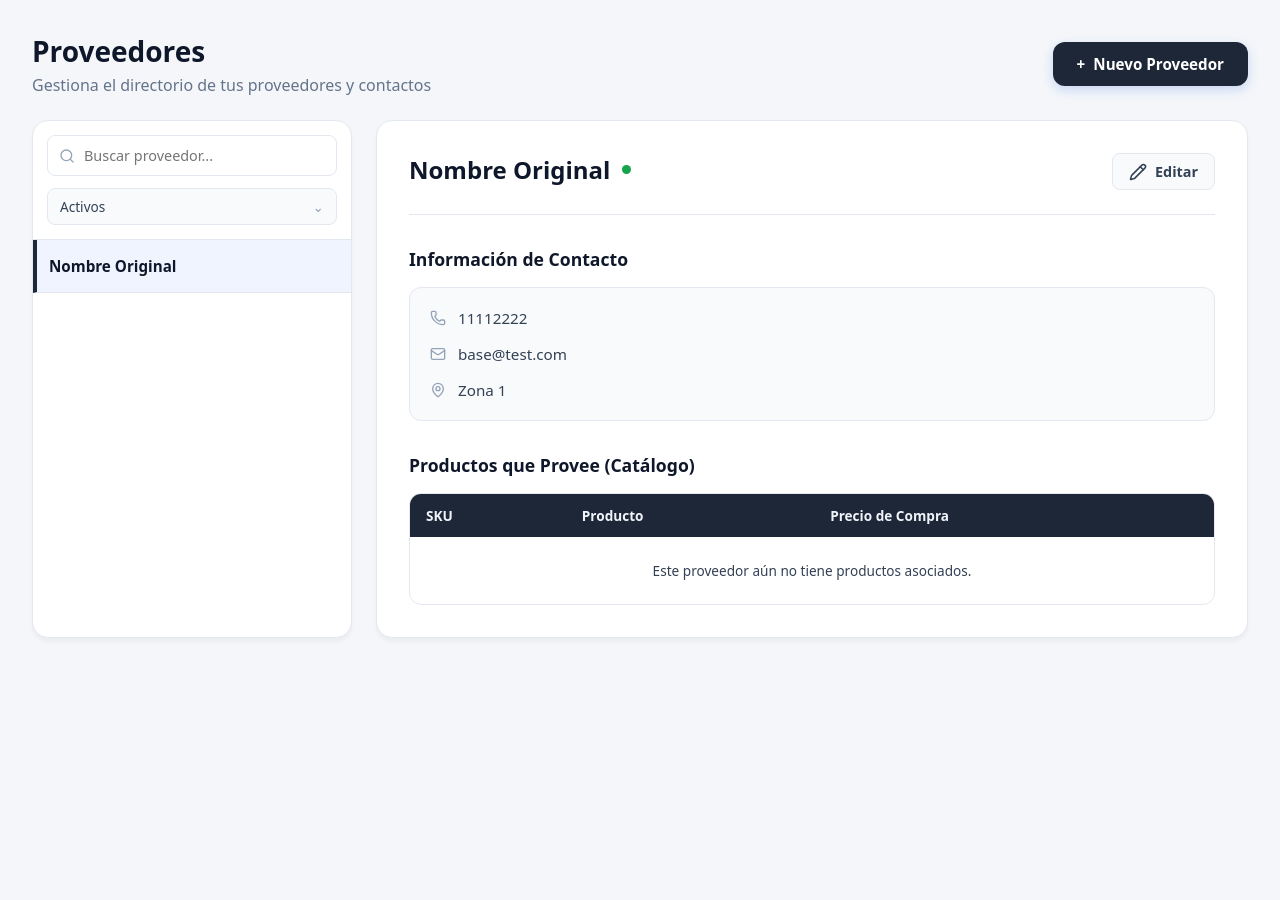
Test case: Flujo comercial completo: Proveedores › edición: actualiza los datos y se reflejan en la lista y el detalle
Click the button with class "btn-icon-action". click: (1164, 172)
box: 1112,153 -> 1215,190
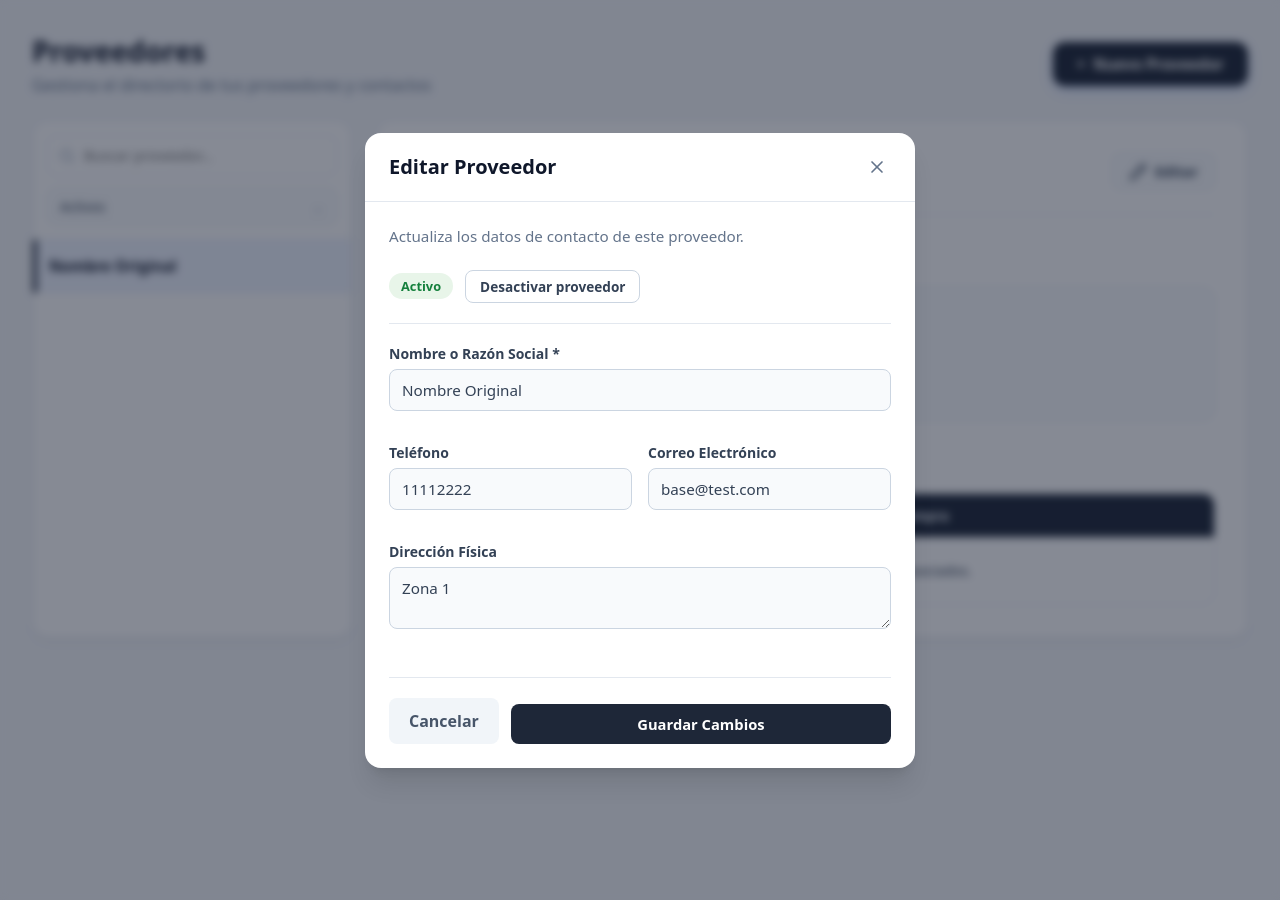
Replace the text in the field below "Nombre o Razón Social *" with "Nombre Editado". click: (640, 390)
box: 389,368 -> 891,410
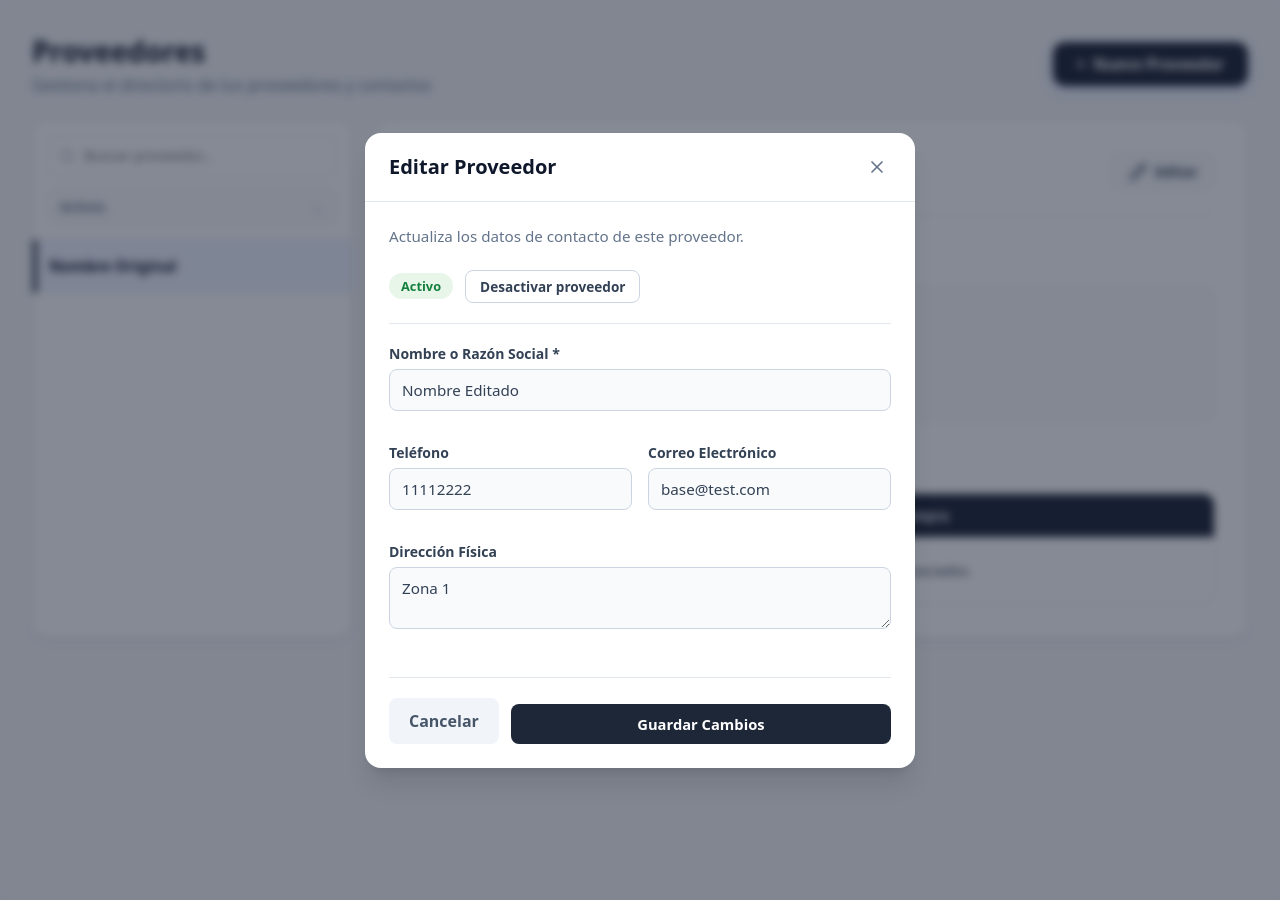
Replace the text in the field below "Teléfono" with "22223333". click: (510, 488)
box: 389,468 -> 632,510
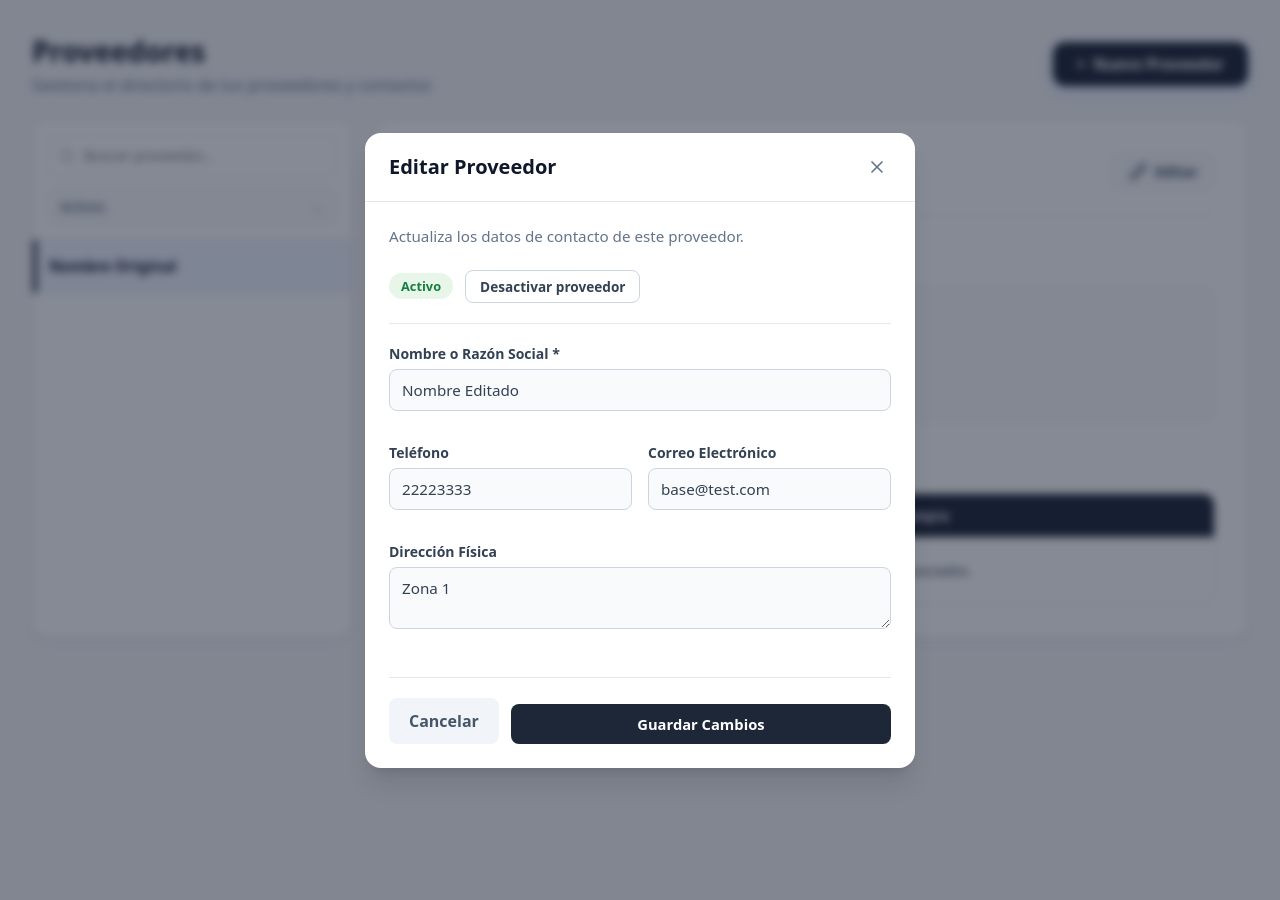
Submit the form, box 389,344 -> 891,744
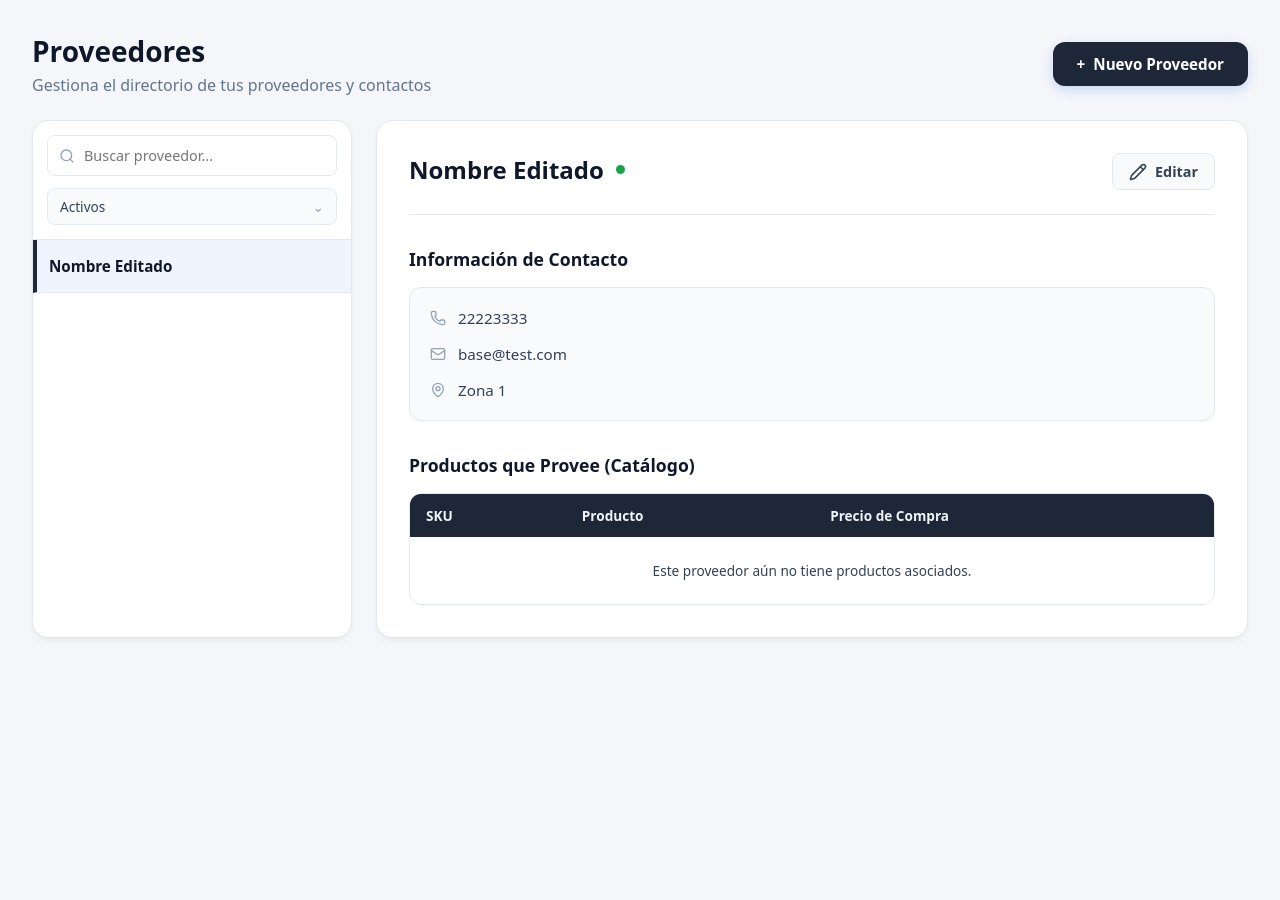
expect the heading with class "detail-name" reads "Nombre Editado": met, box 409,153 -> 604,186
expect the text with class "supplier-name" reads "Nombre Editado": met, box 49,256 -> 172,276
expect the text "22223333" is shown: met, box 458,308 -> 528,328
